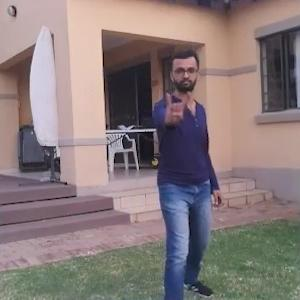takeoff-hand: (157, 83, 189, 127)
